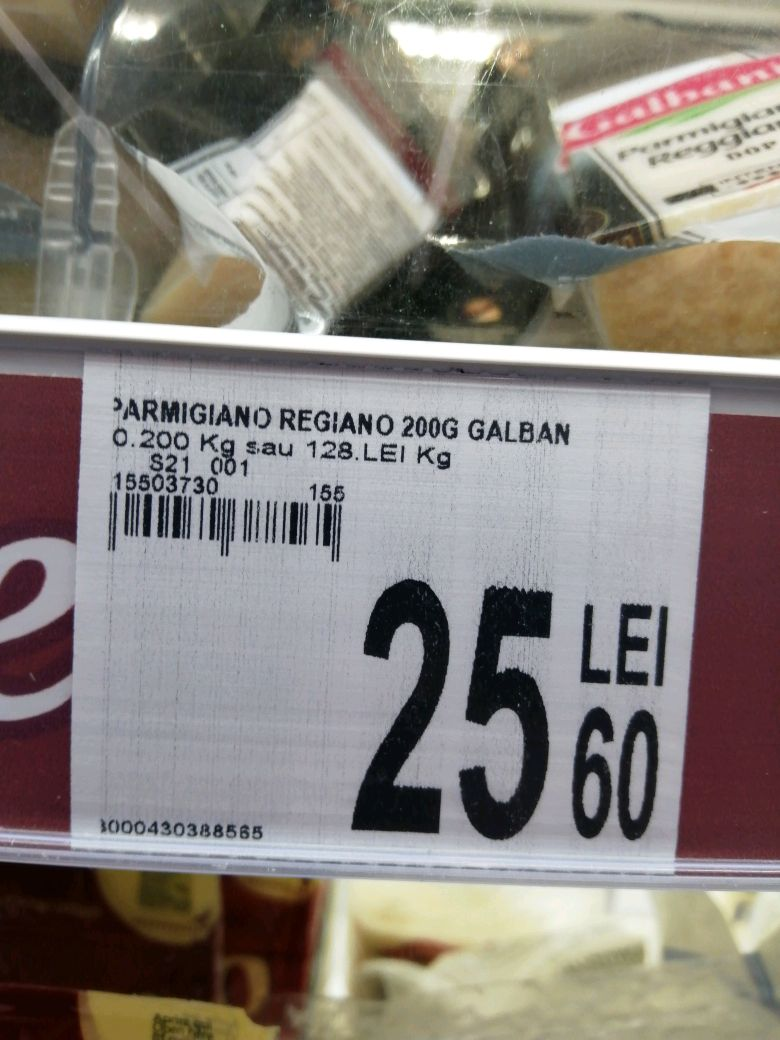price_bani: (567, 702, 668, 843)
price_lei: (330, 569, 561, 841)
price_tag: (58, 331, 702, 892)
product_id: (81, 809, 272, 846)
product_name: (92, 388, 585, 452)
